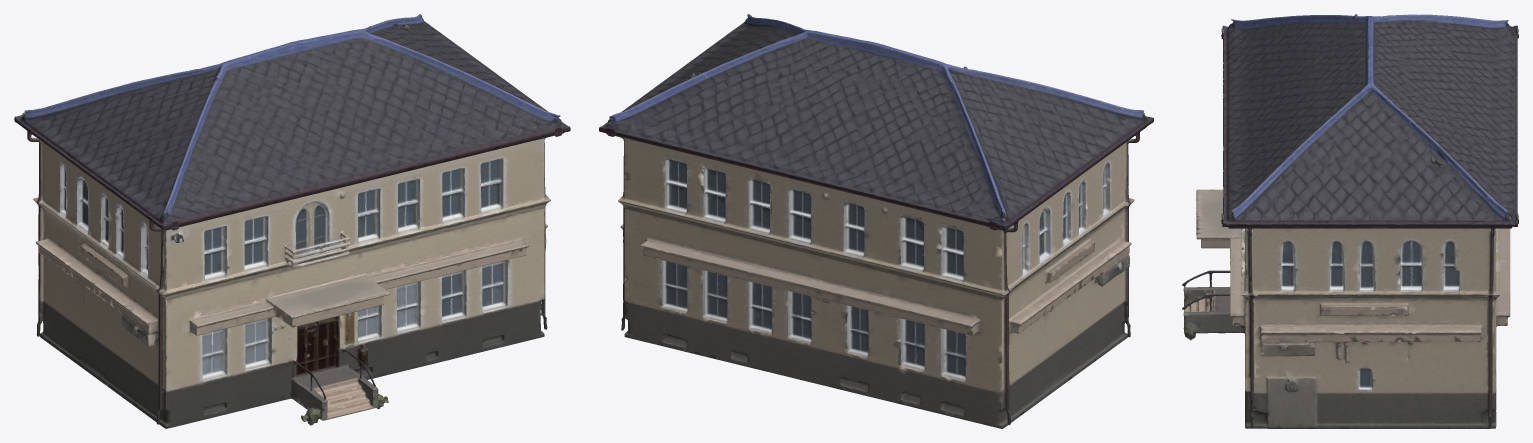
The model's file is mamedamachizukuri.glb.
The picture shows the model from 3 angles, left to right: view 1: azimuth 30°, elevation 25°; view 2: azimuth 150°, elevation 25°; view 3: azimuth 270°, elevation 25°; orthographic projection.
Parts seen in each view (by area): view 1: Mesh_0; view 2: Mesh_0; view 3: Mesh_0.
Boxes of the visible parts, box(x1,y1,x2,y2) form: Mesh_0: box(14, 14, 570, 428); Mesh_0: box(599, 14, 1153, 428); Mesh_0: box(1182, 14, 1518, 428).
Size of the model in its own units: 1.9 by 1.33 by 1.37.
1 material, 1 textured.
